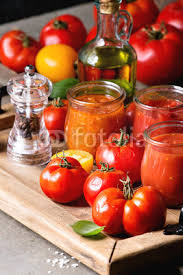Tomato: (97, 189, 161, 237), (136, 24, 181, 74), (43, 157, 89, 201), (101, 137, 141, 178), (2, 27, 35, 64), (44, 18, 86, 45)
